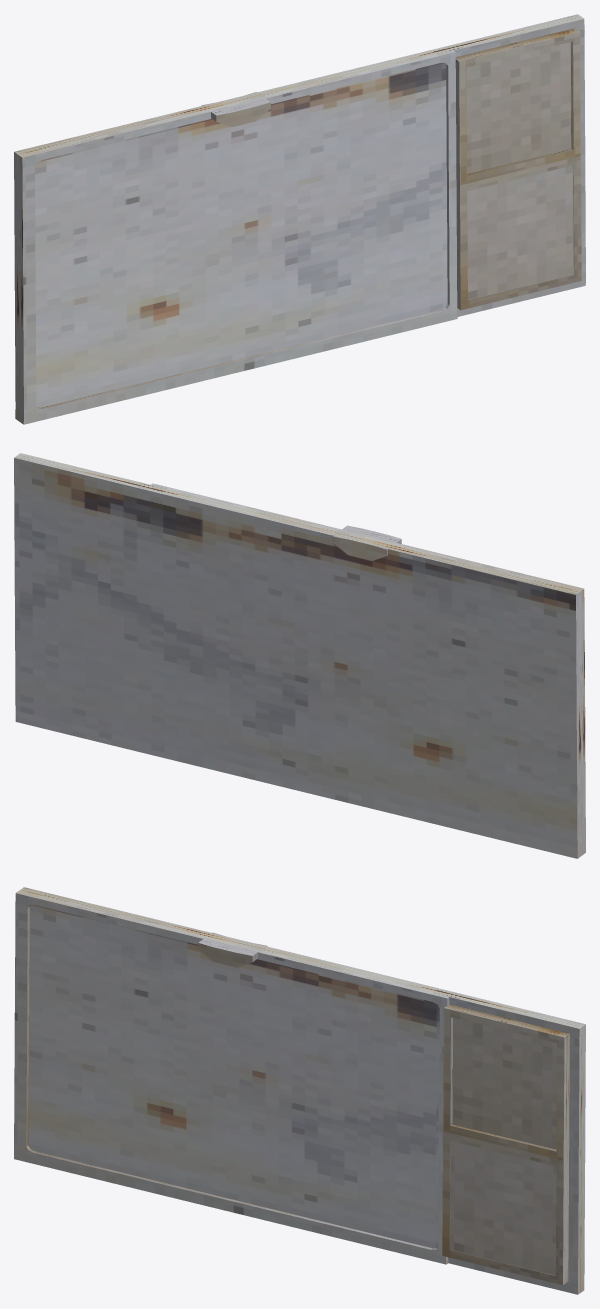
File: BigScreen.fbx
The picture shows the model from 3 angles, top to bottom: view 1: azimuth 30°, elevation 25°; view 2: azimuth 150°, elevation 25°; view 3: azimuth 330°, elevation 25°; orthographic projection.
Parts seen in each view (by area): view 1: Screen Holder; view 2: Screen Holder; view 3: Screen Holder.
Part boxes in pixels (x1,y1,x2,y2): Screen Holder: [14, 14, 585, 424]; Screen Holder: [14, 453, 585, 858]; Screen Holder: [14, 887, 585, 1294].
Size of the model in its own units: 943 by 425 by 44.36.
1 material, 1 textured.
